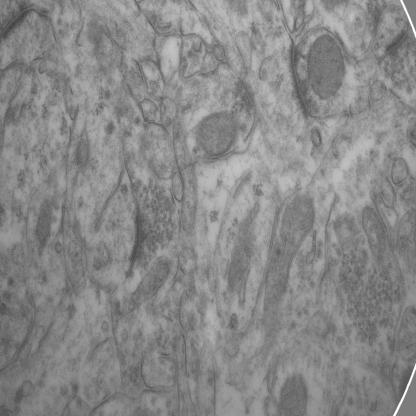mitochondria: (262, 195, 316, 322), (306, 34, 346, 103), (197, 109, 238, 156), (276, 373, 309, 416)
